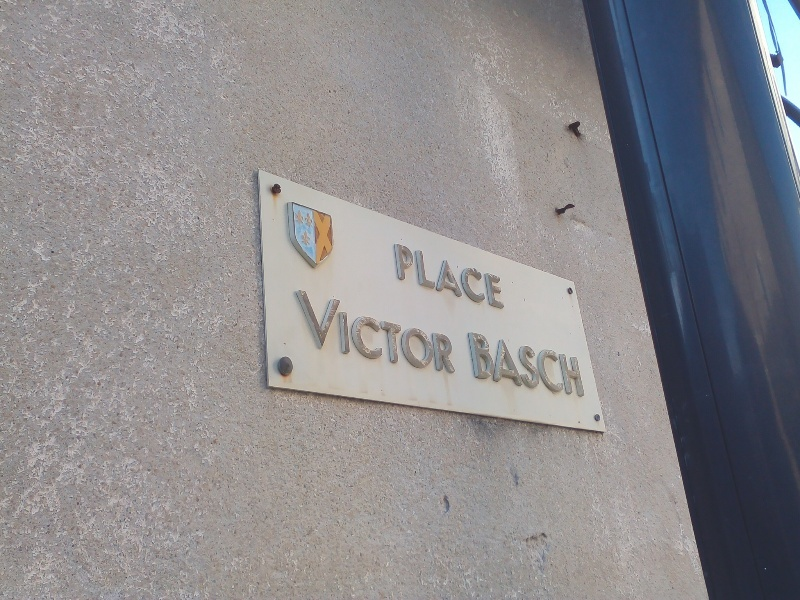text: (305, 288, 320, 376), (321, 288, 336, 376), (337, 288, 352, 376), (353, 288, 368, 376), (369, 288, 384, 376), (385, 288, 400, 376), (401, 288, 416, 376), (417, 288, 432, 376), (433, 288, 448, 376), (465, 330, 480, 399), (481, 330, 496, 399), (497, 330, 512, 399), (513, 330, 528, 399), (529, 330, 544, 399), (545, 330, 560, 399), (561, 330, 576, 399), (401, 243, 416, 311), (417, 243, 432, 311), (433, 243, 448, 311), (449, 243, 464, 311), (465, 243, 480, 311), (481, 243, 496, 311), (293, 288, 304, 376), (449, 288, 459, 376), (577, 330, 588, 399), (497, 243, 507, 311), (395, 243, 400, 311)
